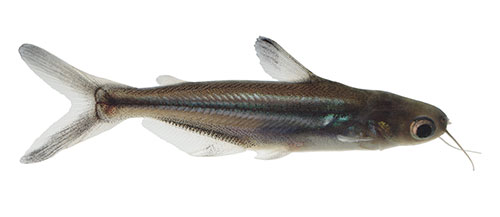fish: (50, 79, 450, 156)
